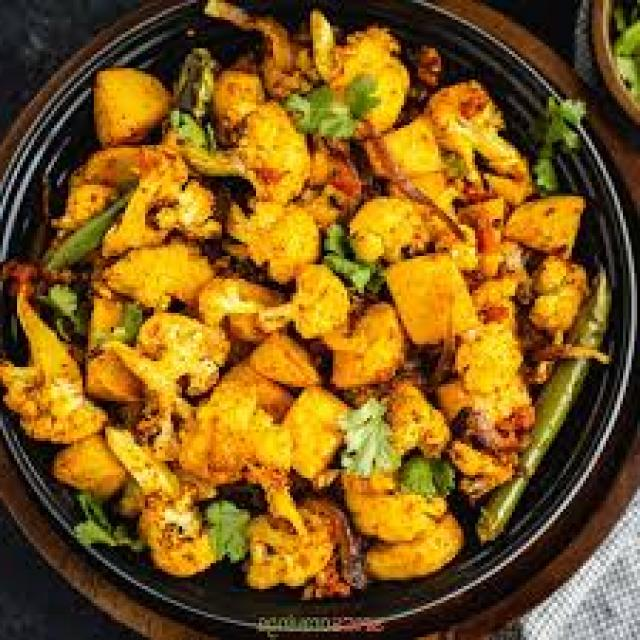Aloo Gobi: (232, 180, 516, 518)
